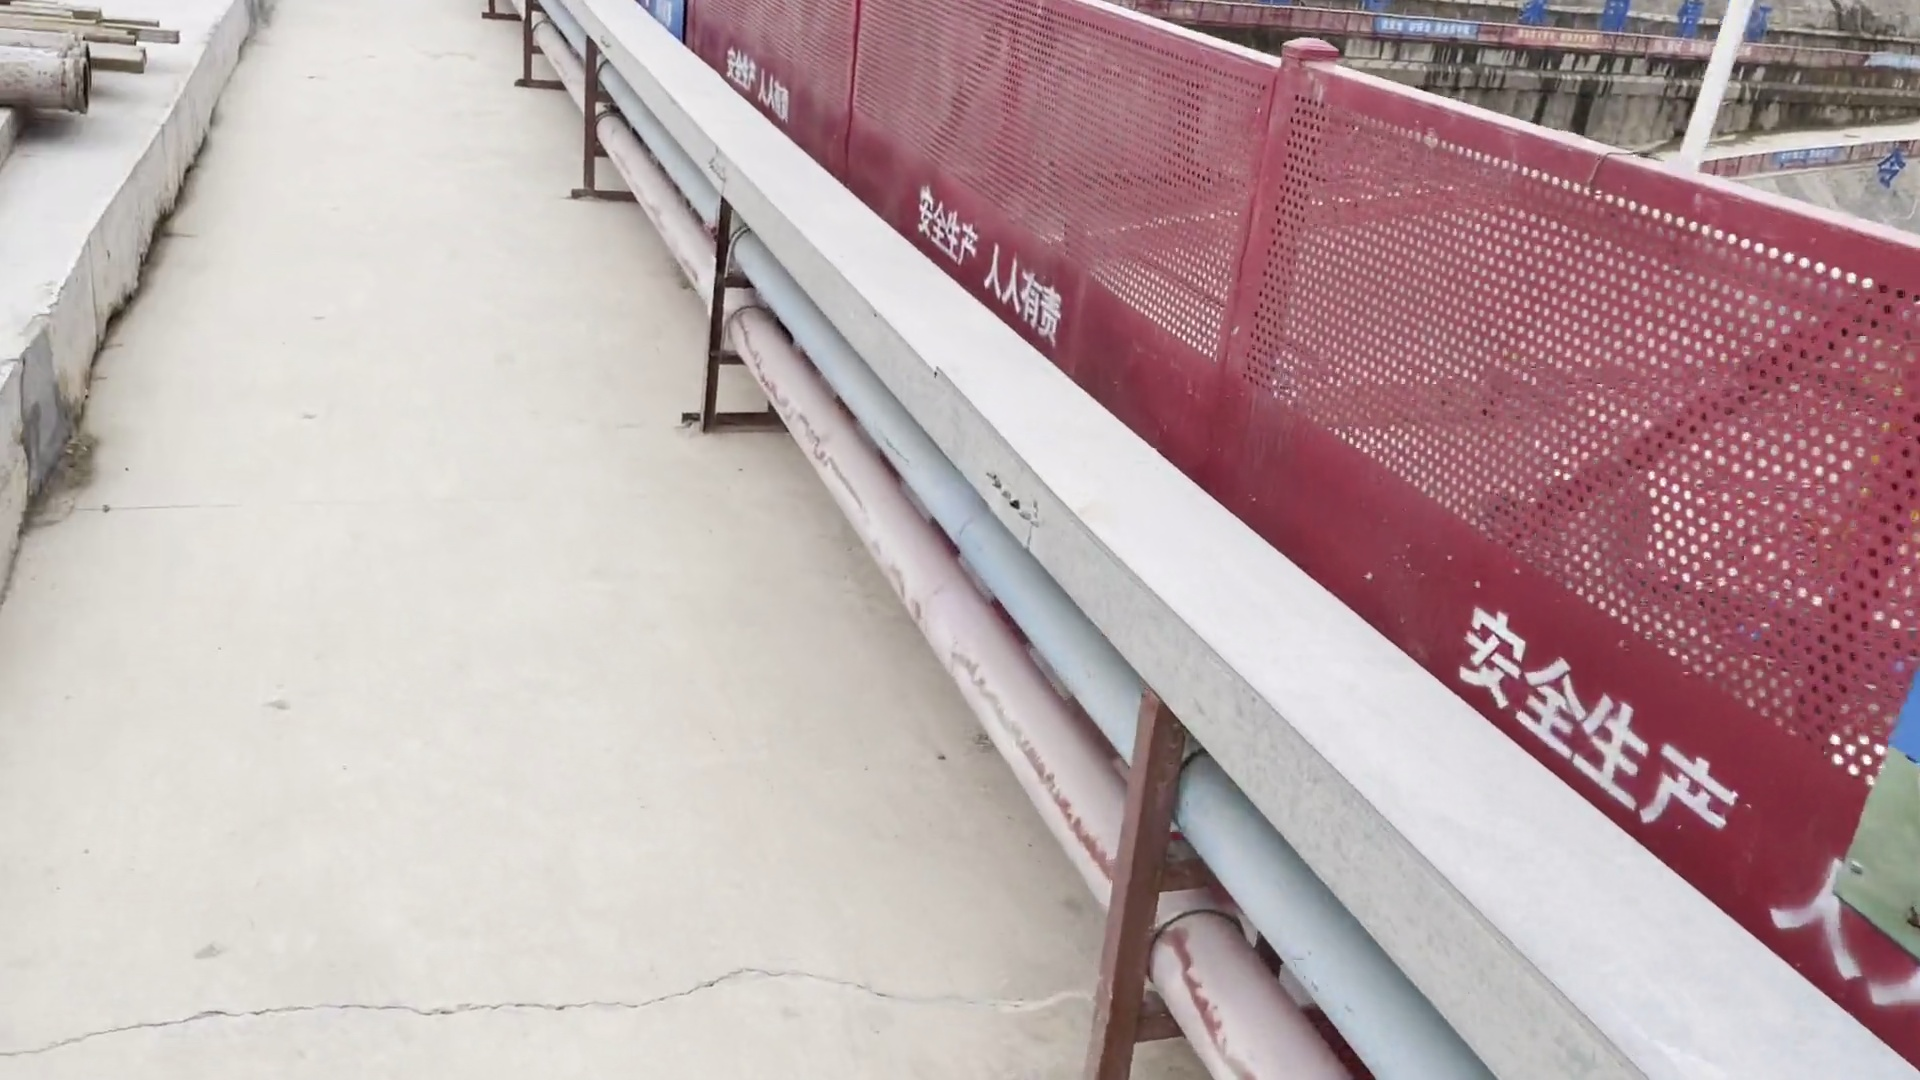fence: (1296, 51, 1920, 1080), (645, 1, 1329, 596)
slogan: (1371, 8, 1480, 49), (1644, 30, 1746, 73), (1507, 22, 1604, 58)
wood: (1, 3, 193, 84)
